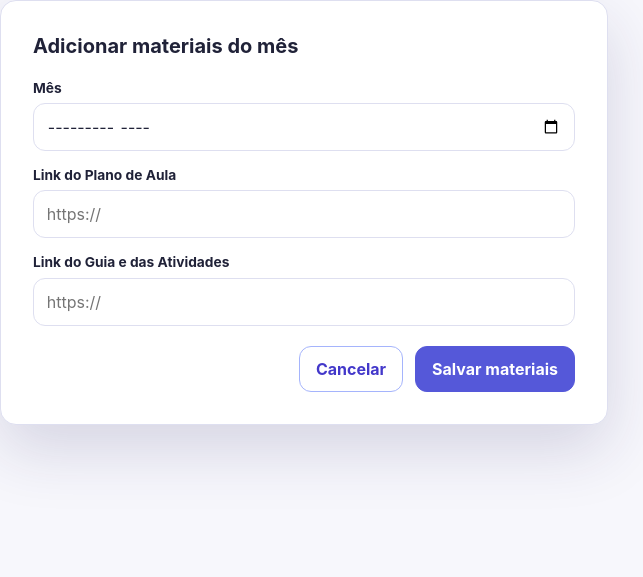
gravação pelo formulário mensal › oculta detalhes de uma falha inesperada
Type "2026-09" into the field labelled "Mês".
click(304, 127); type("2026-09")  # box [33,103,575,151]
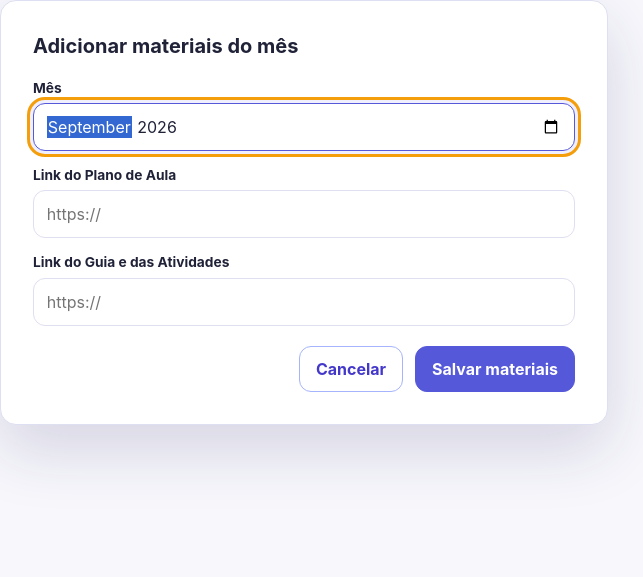
Click the button "Salvar materiais".
click(495, 369)  # box [415,346,575,392]
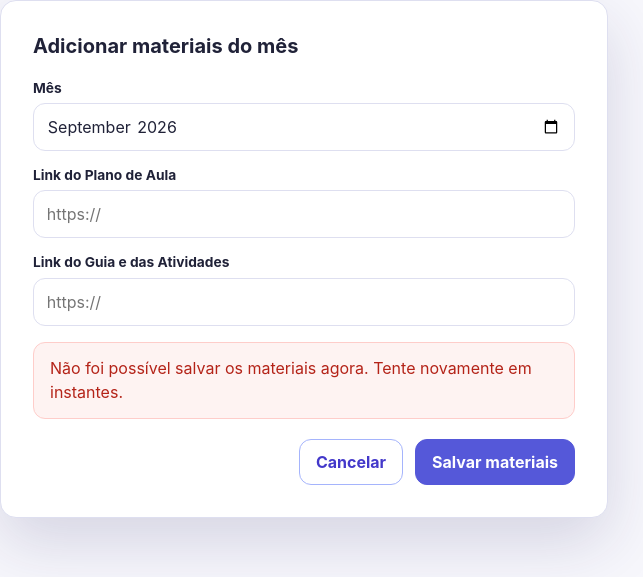
Expected: the message reads "Não foi possível salvar os materiais agora. Tente novamente em instantes.", [50,358,532,402]
